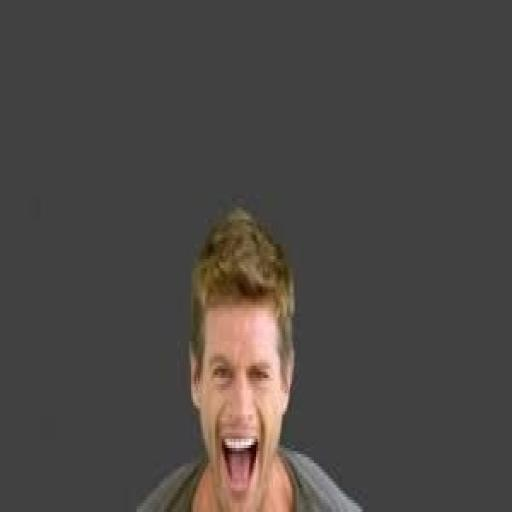laughing: (133, 195, 364, 509)
